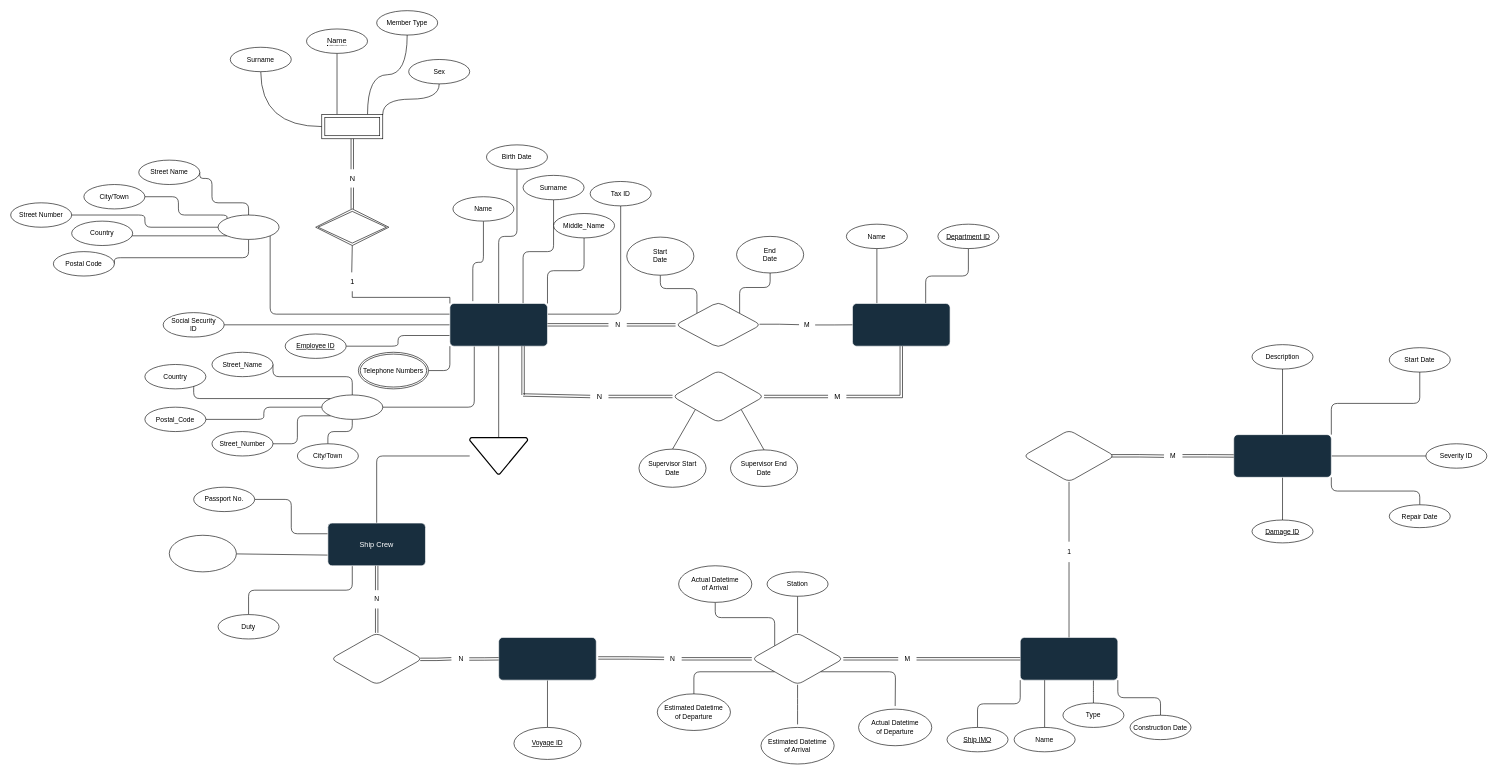
The diagram is 1498 pixels wide and 775 high, and some of its shapes have lost their labels. Each missing label, with the centre of its shape:
"Address" goes at pixel 352 406.
"Damage" goes at pixel 1282 455.
"Department" goes at pixel 901 324.
"Embarks on" goes at pixel 797 658.
"Employee" goes at pixel 498 324.
"Family Member" goes at pixel 352 126.
"Gets" goes at pixel 1069 455.
"ISA" goes at pixel 498 456.
"Participates in" goes at pixel 376 658.
"Passport Expiration Date" goes at pixel 202 553.
"Relationship" goes at pixel 352 227.
"Ship" goes at pixel 1069 658.
"Supervises" goes at pixel 718 396.
"Town of Origin" goes at pixel 248 226.
"Voyage" goes at pixel 547 658.
"Works at" goes at pixel 718 324.
